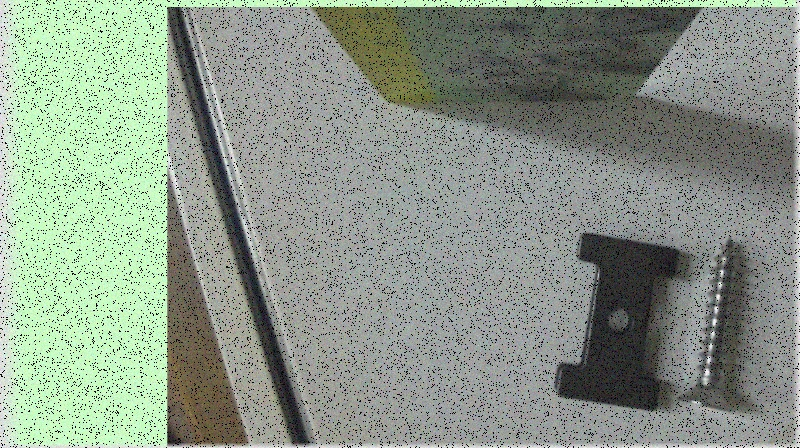O002: (554, 234, 677, 412)
S001: (676, 226, 740, 415)
